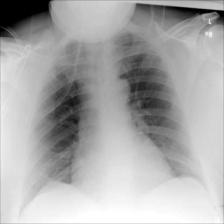normal: (25, 28, 208, 209)
